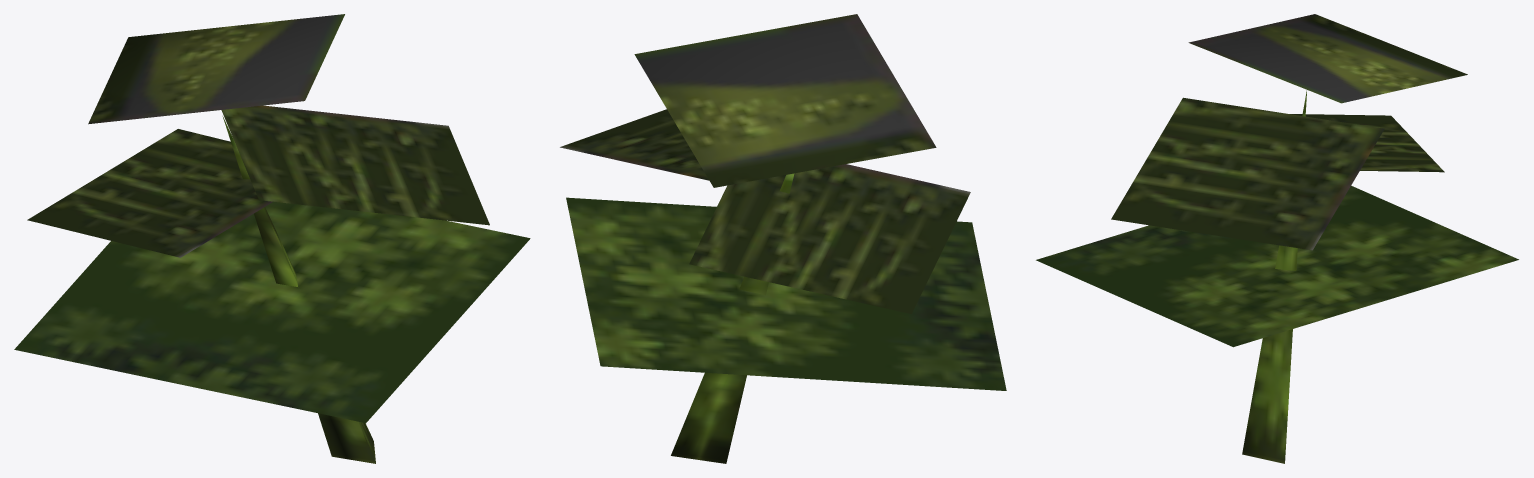
The model's file is dec_Tree_UltraLOW_03_97615.glb.
The picture shows the model from 3 angles, left to right: view 1: azimuth 30°, elevation 25°; view 2: azimuth 150°, elevation 25°; view 3: azimuth 270°, elevation 25°; orthographic projection. The views are drawn at different scales.
Parts seen in each view (by area): view 1: Tree_UltraLOW_03_mesh; view 2: Tree_UltraLOW_03_mesh; view 3: Tree_UltraLOW_03_mesh.
Boxes of the visible parts, box(x1,y1,x2,y2) form: Tree_UltraLOW_03_mesh: box(14, 14, 530, 463); Tree_UltraLOW_03_mesh: box(560, 14, 1006, 463); Tree_UltraLOW_03_mesh: box(1036, 14, 1518, 463).
Size of the model in its own units: 1.93 by 1.61 by 1.93.
Materials: 1 (1 with a texture image).
